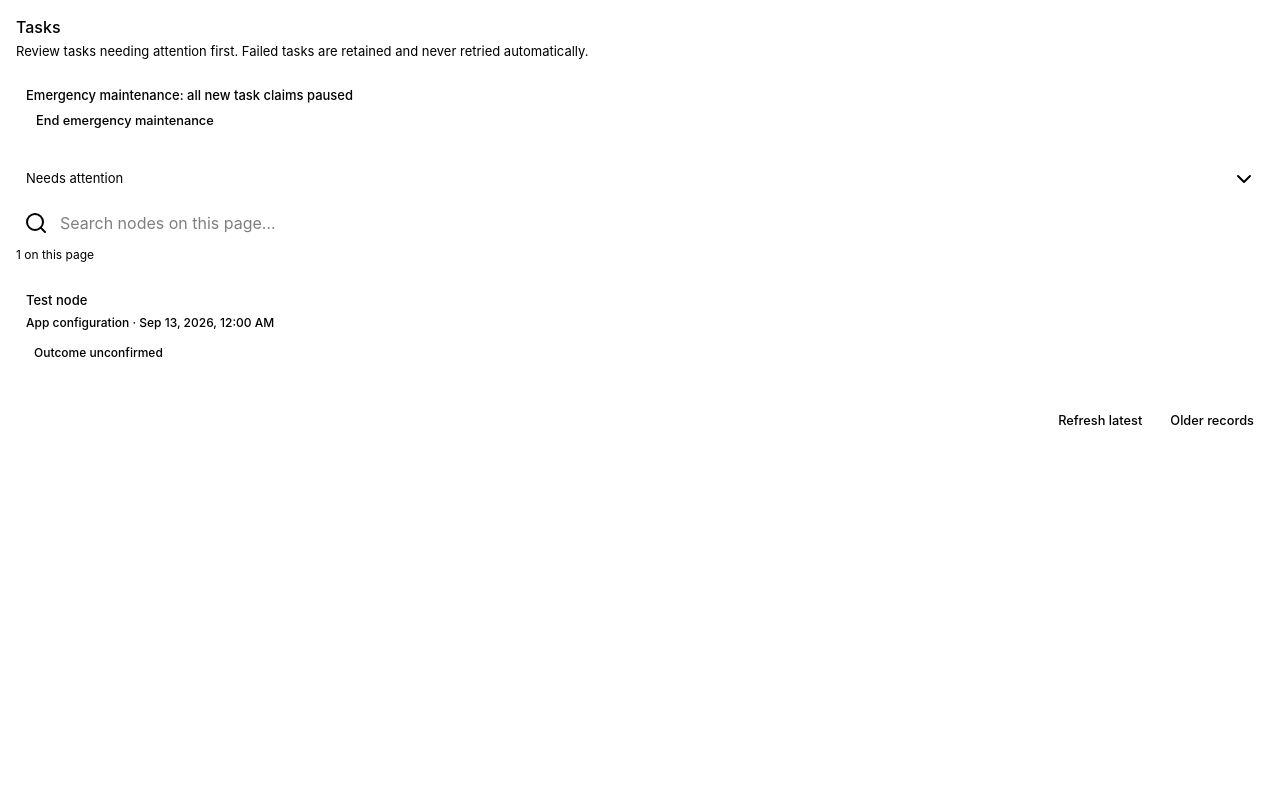
uses standard button sizes without hardcoded desktop min-h-11 overrides
Click the button that starts with "Test node". click: click(57, 300)
box: [16,279,1264,374]
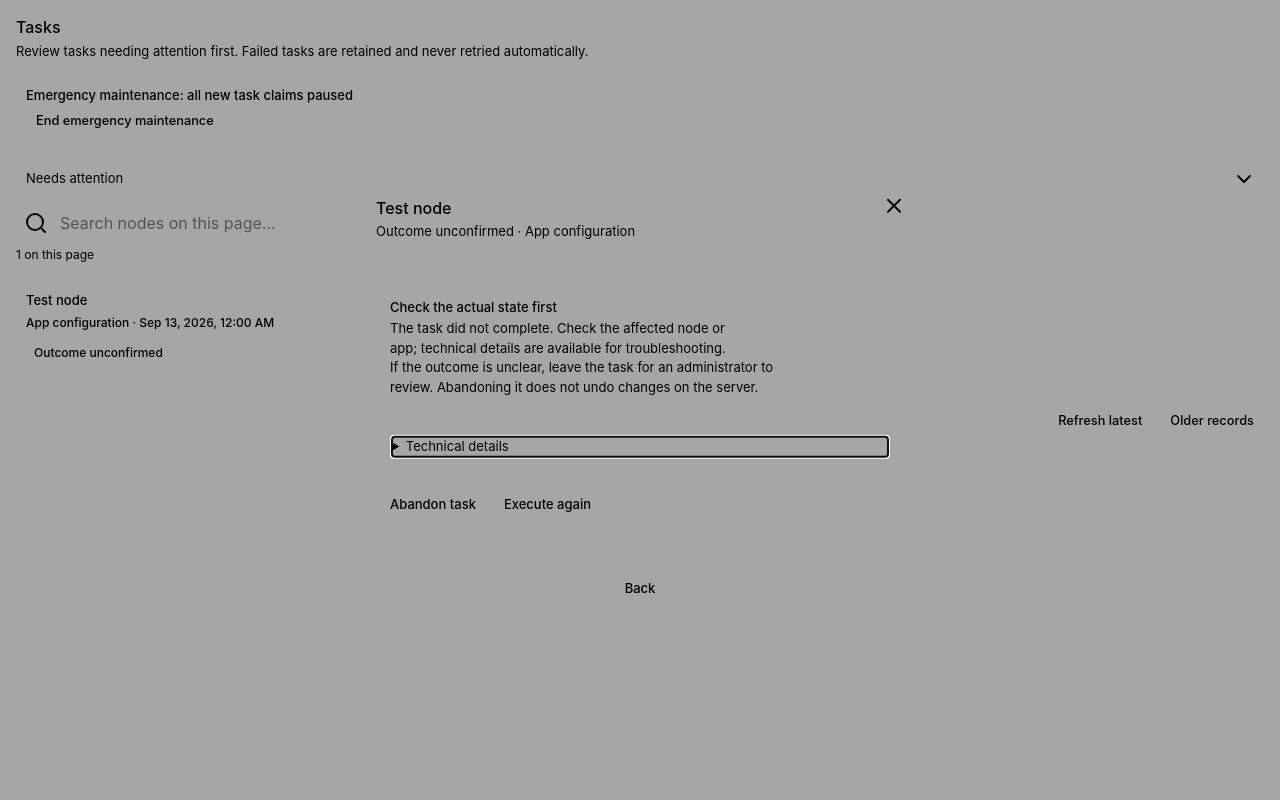
Result: the element that starts with "Check the actual state first" is shown at [380,298,773,520]
